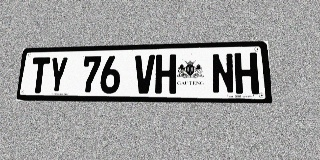6: (100, 56, 121, 93)
7: (80, 56, 101, 93)
H: (234, 52, 259, 94), (155, 54, 176, 94)
N: (211, 53, 235, 94)
T: (29, 57, 50, 93)
V: (134, 55, 155, 94)
Y: (47, 57, 69, 93)
